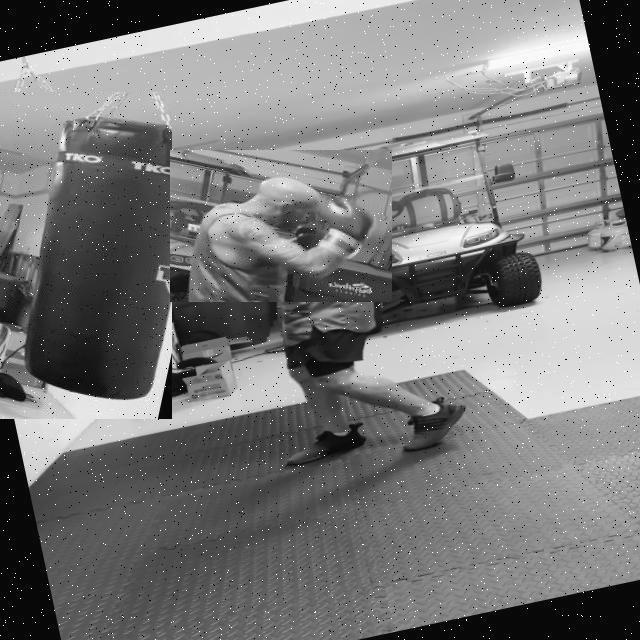punch: (170, 150, 392, 302)
